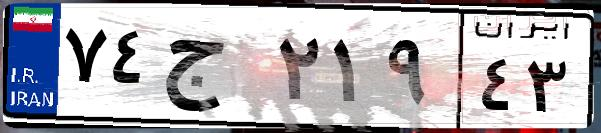1: (330, 28, 385, 110)
2: (270, 28, 330, 110)
3: (525, 38, 570, 115)
4: (475, 38, 525, 113), (110, 28, 158, 98)
7: (57, 26, 110, 100)
9: (385, 28, 445, 110)
ج: (158, 20, 270, 120)
